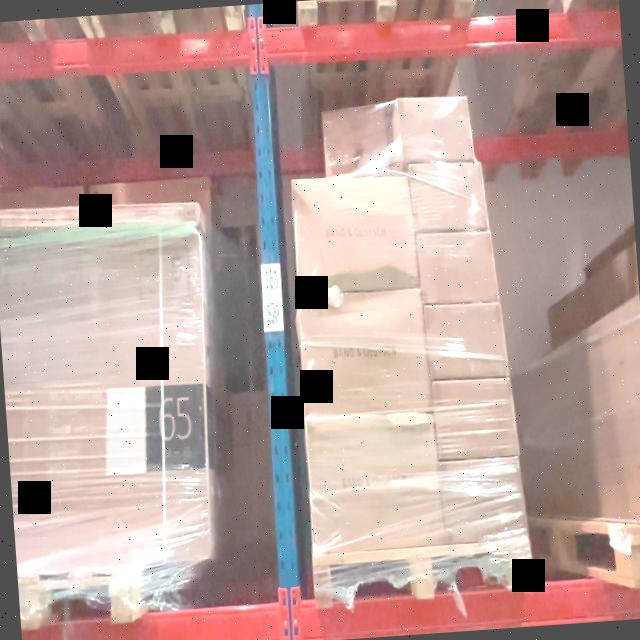box: (306, 413, 441, 552), (300, 289, 428, 416), (292, 174, 414, 294), (439, 458, 524, 542), (432, 377, 514, 460), (426, 302, 504, 378), (419, 231, 494, 301), (410, 162, 484, 232), (398, 94, 471, 162), (322, 108, 388, 174)
